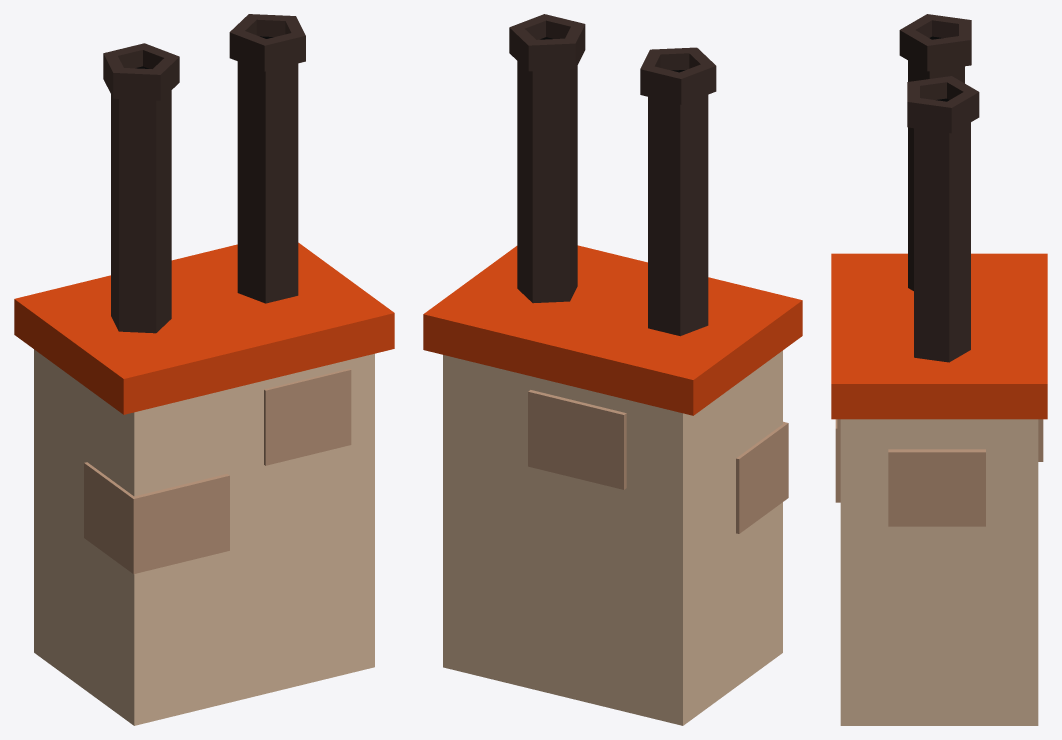
File: village_pack_chimney.glb
3 renders of one model, left to right at view 1: azimuth 30°, elevation 25°; view 2: azimuth 150°, elevation 25°; view 3: azimuth 270°, elevation 25°, orthographic.
Parts seen in each view (by area): view 1: chimney_brick 3_0; view 2: chimney_brick 3_0; view 3: chimney_brick 3_0.
Part boxes in pixels (<box>): chimney_brick 3_0: <box>14,14,394,725</box>; chimney_brick 3_0: <box>423,14,802,725</box>; chimney_brick 3_0: <box>831,14,1047,725</box>.
Bounding box in the file's own units: 1.08 × 2.35 × 0.7583.
